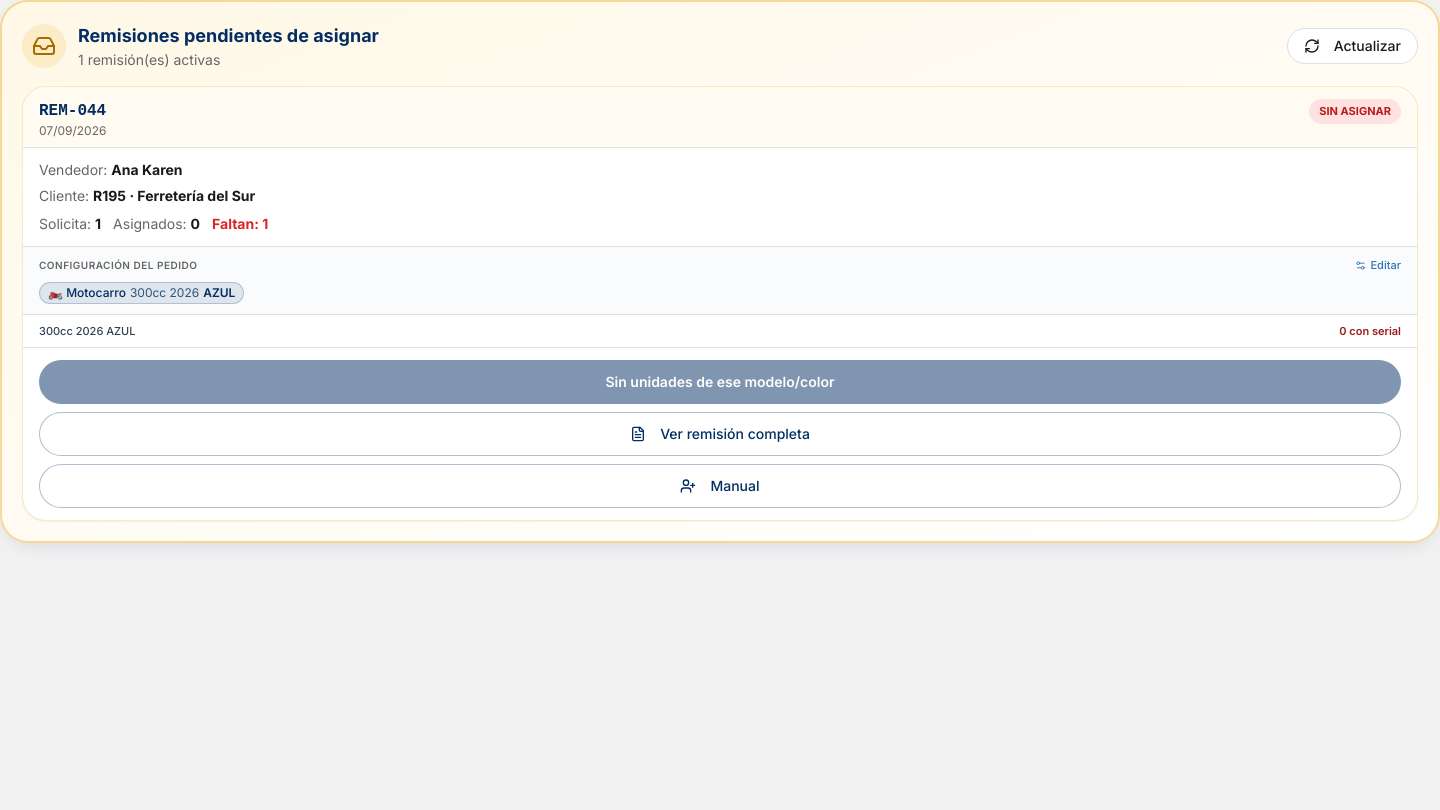
it: Motocarro ya armado · el chasis que ya está en inventario manda › avisa que la remisión pedía otra cosa, en vez de repintar en silencio
Click the button "Manual": (720, 486) [39,464,1401,508]
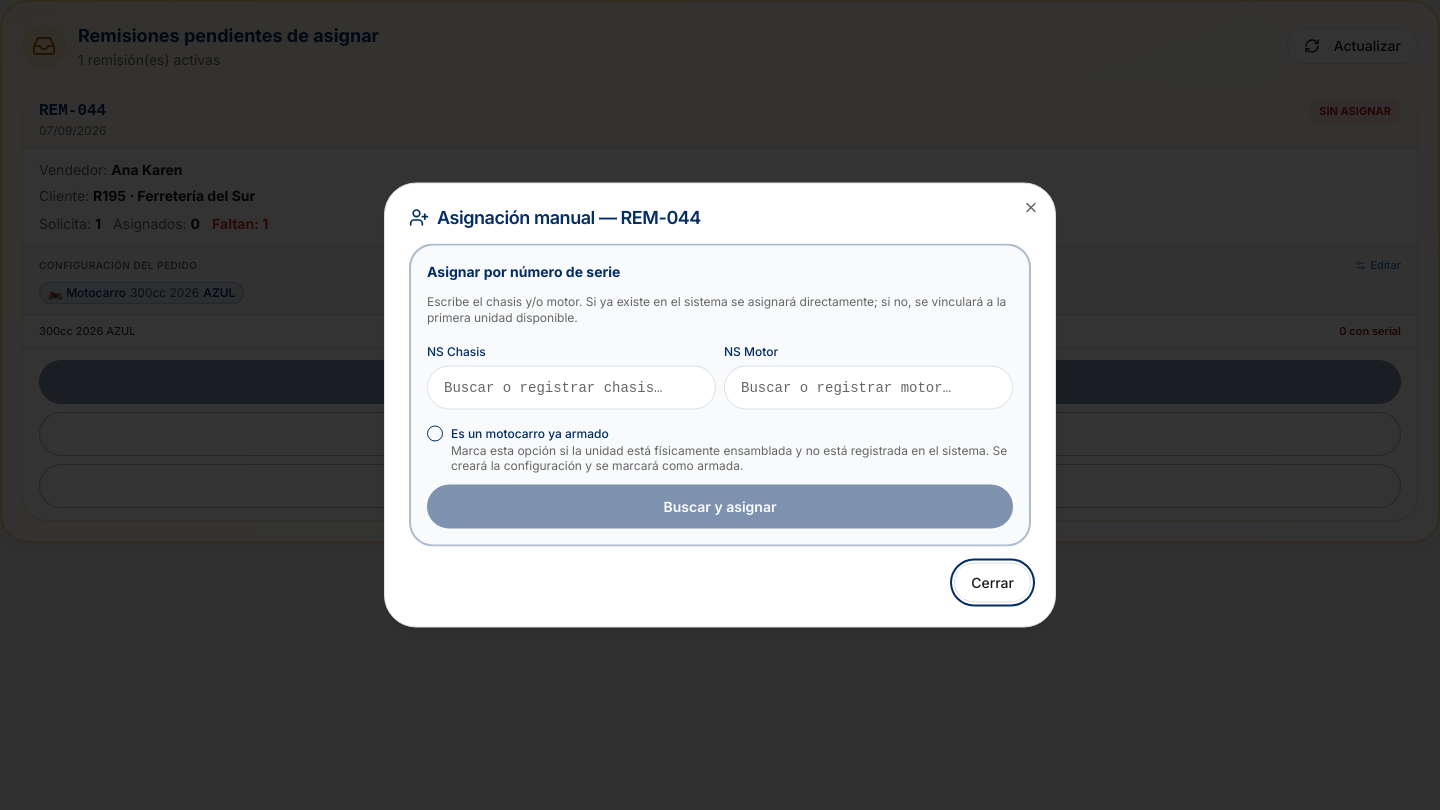
Click the checkbox with id "yaArmado": (435, 434) [427,426,443,442]
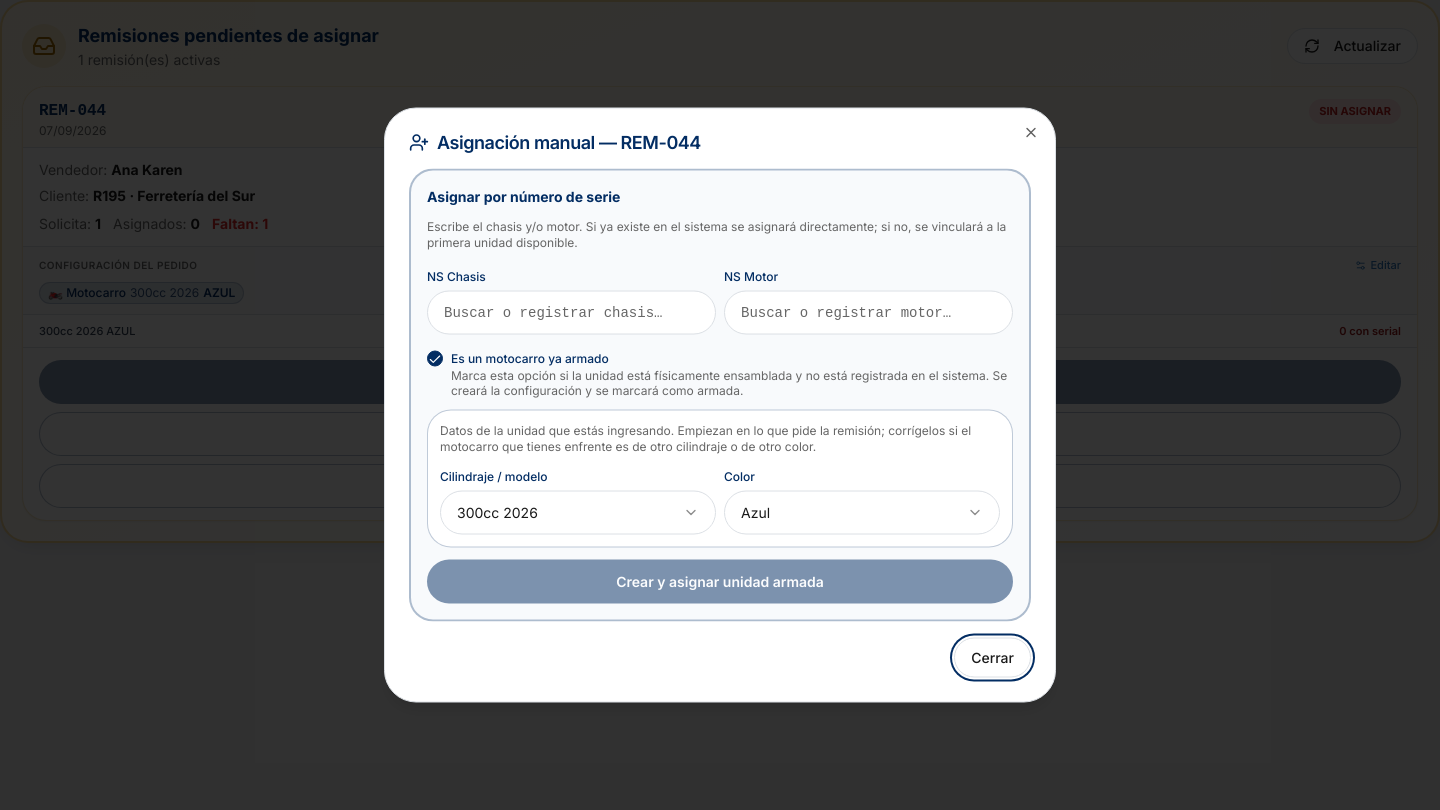
In the field with placeholder "Buscar o registrar chasis…": (572, 312) [427,290,716,334], type "3DVHCPZF9T1M00487"
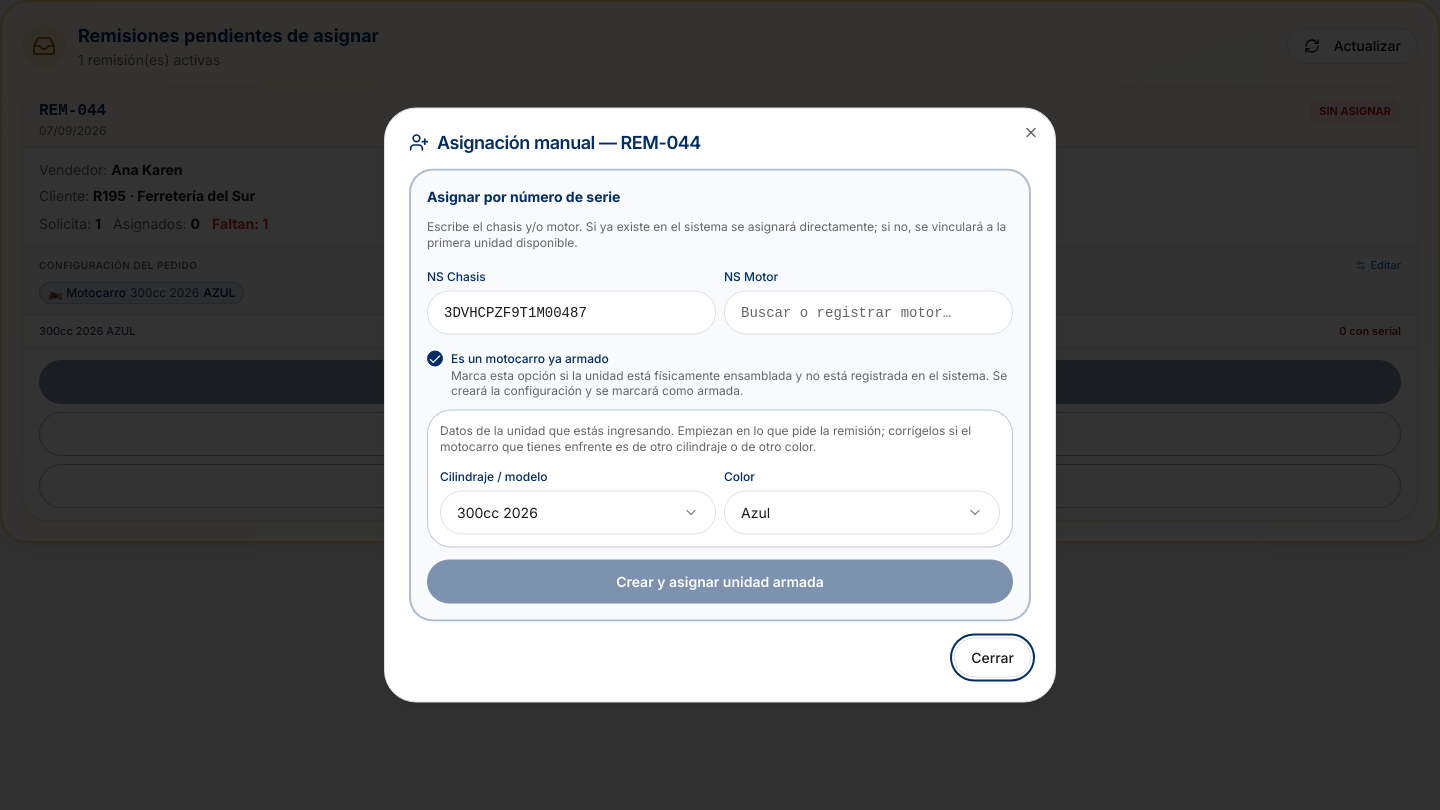
In the field with placeholder "Buscar o registrar motor…": (868, 312) [724,290,1013,334], type "DZ170MMT2M00487"
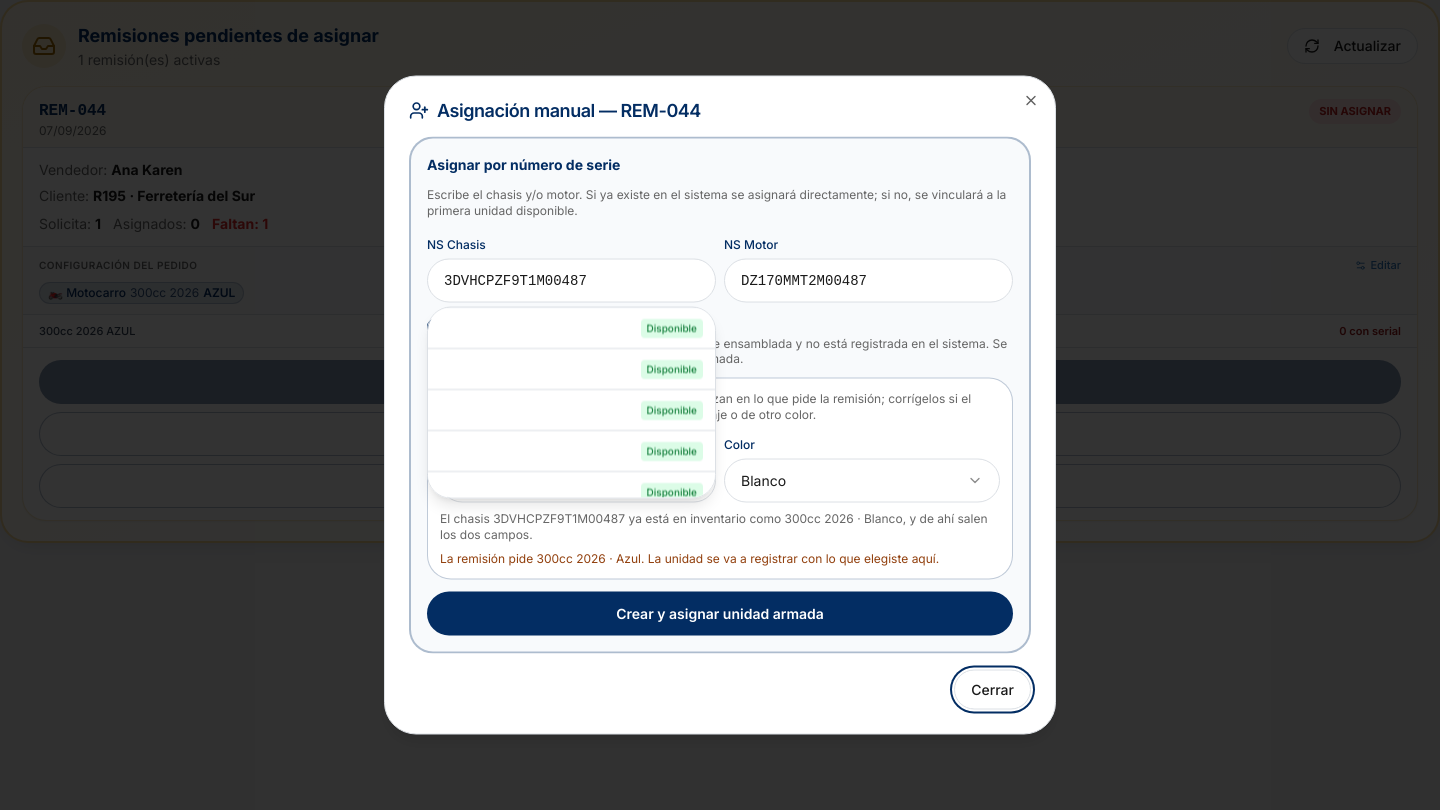
Expected: the text "La remisión pide 300cc 2026 · Azul" is shown, [440,550,939,566]
